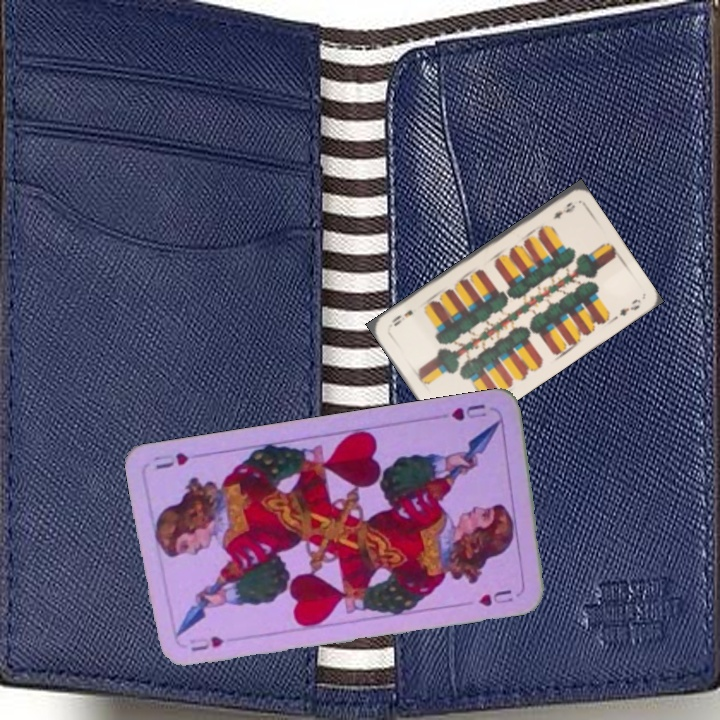E9: (549, 198, 578, 222)
HU: (447, 400, 489, 424), (186, 632, 227, 654)
